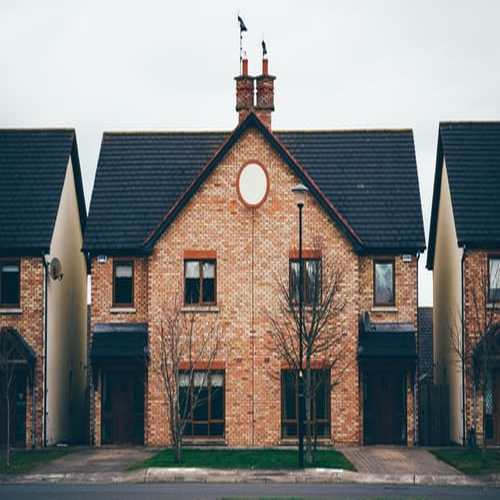Building House: (96, 51, 428, 458)
